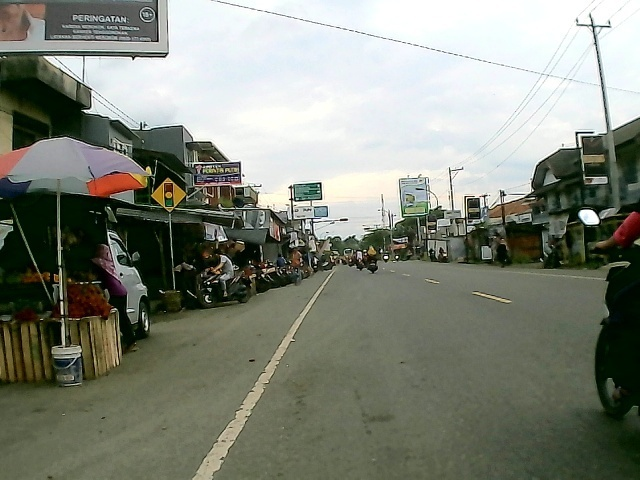Lampu isyarat: (149, 176, 188, 216)
